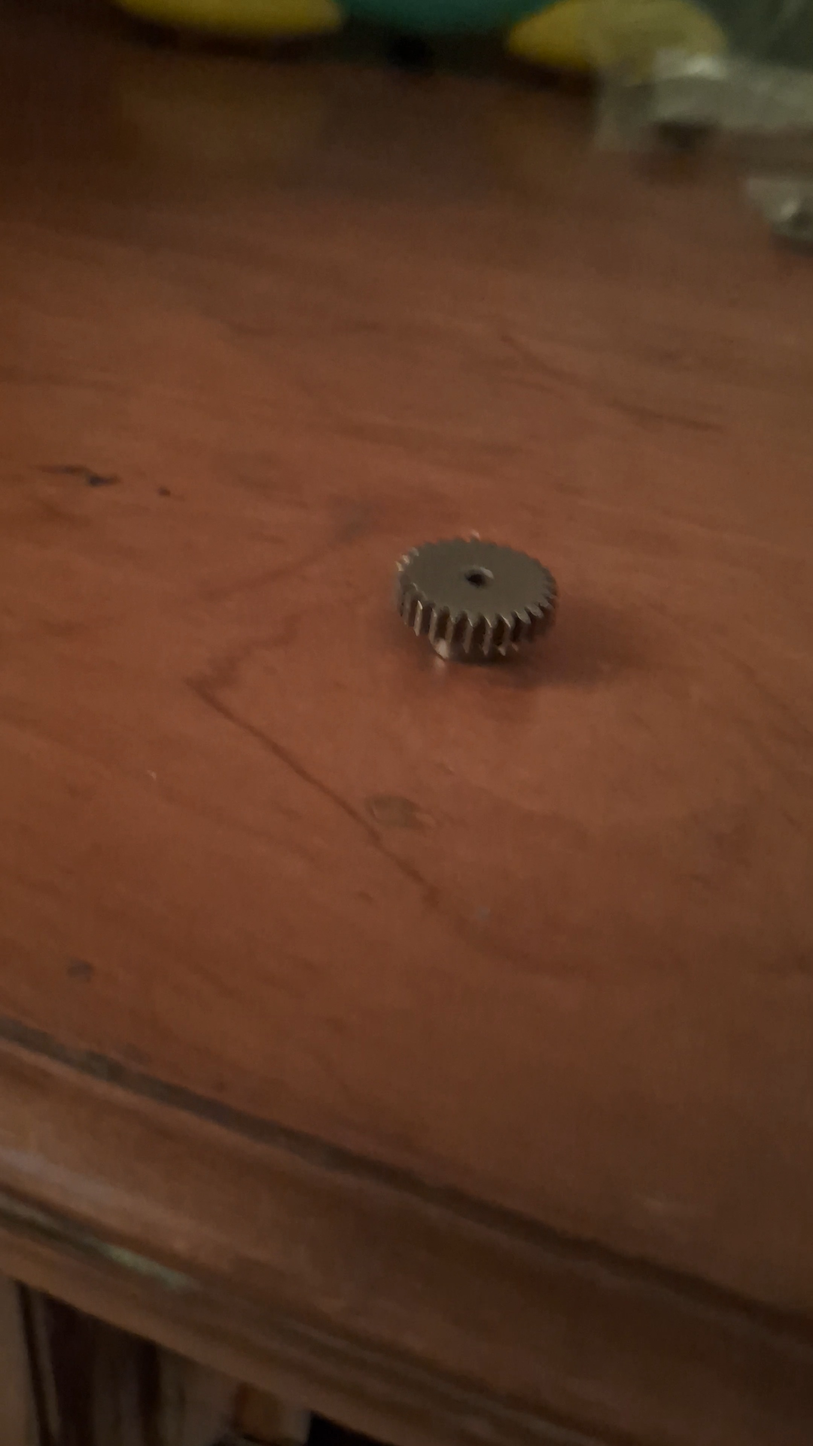spur gear: (395, 537, 557, 664)
